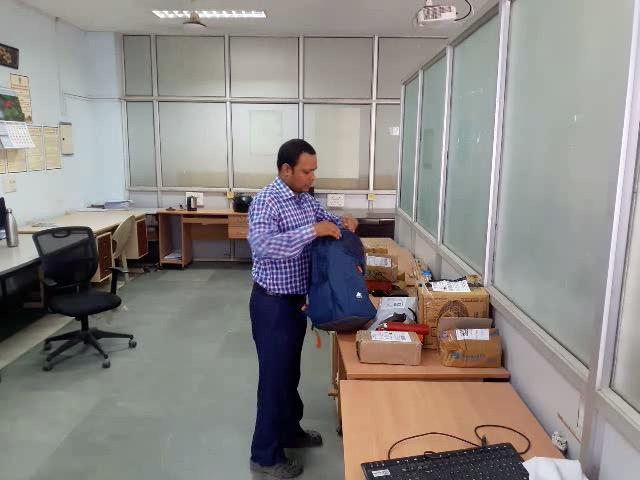shoplifting: (228, 196, 414, 346)
